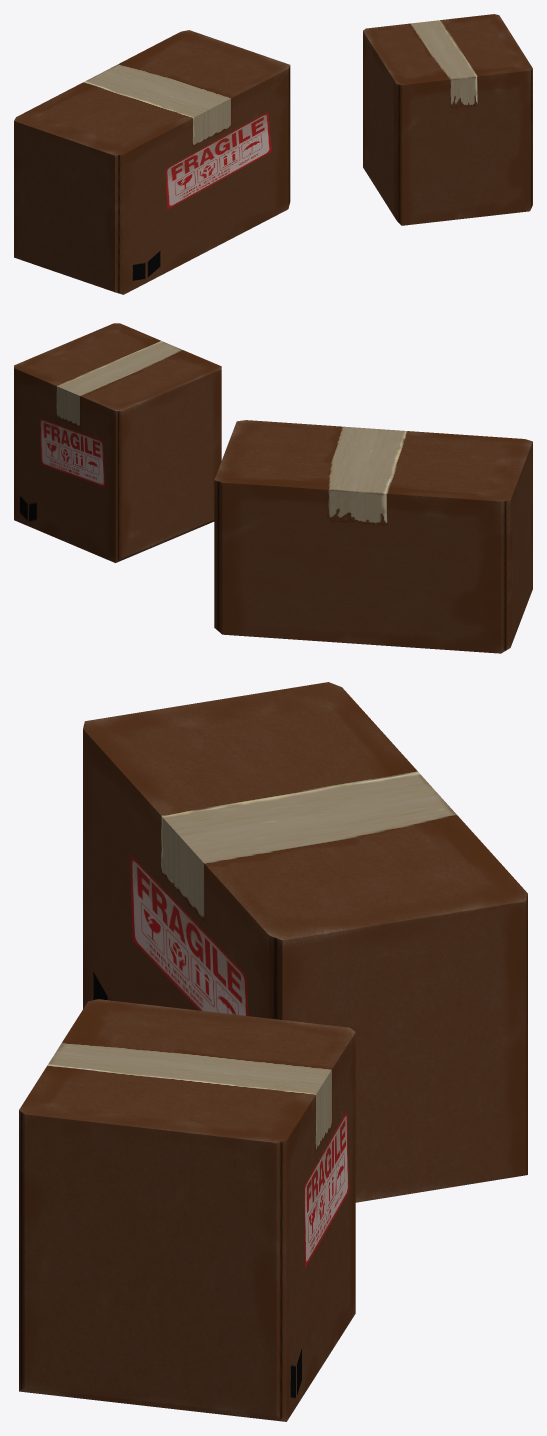
File: box_pile1.fbx
The picture shows the model from 3 angles, top to bottom: view 1: azimuth 30°, elevation 25°; view 2: azimuth 150°, elevation 25°; view 3: azimuth 270°, elevation 25°; orthographic projection. The views are drawn at different scales.
Parts seen in each view (by area): view 1: pile_boite_3; view 2: pile_boite_3; view 3: pile_boite_3.
Boxes of the visible parts, x1,y1,x2,y2 form: pile_boite_3: (14, 14, 532, 294); pile_boite_3: (14, 323, 532, 653); pile_boite_3: (19, 682, 527, 1421).
Bounding box in the file's own units: 346 × 98.51 × 161.
